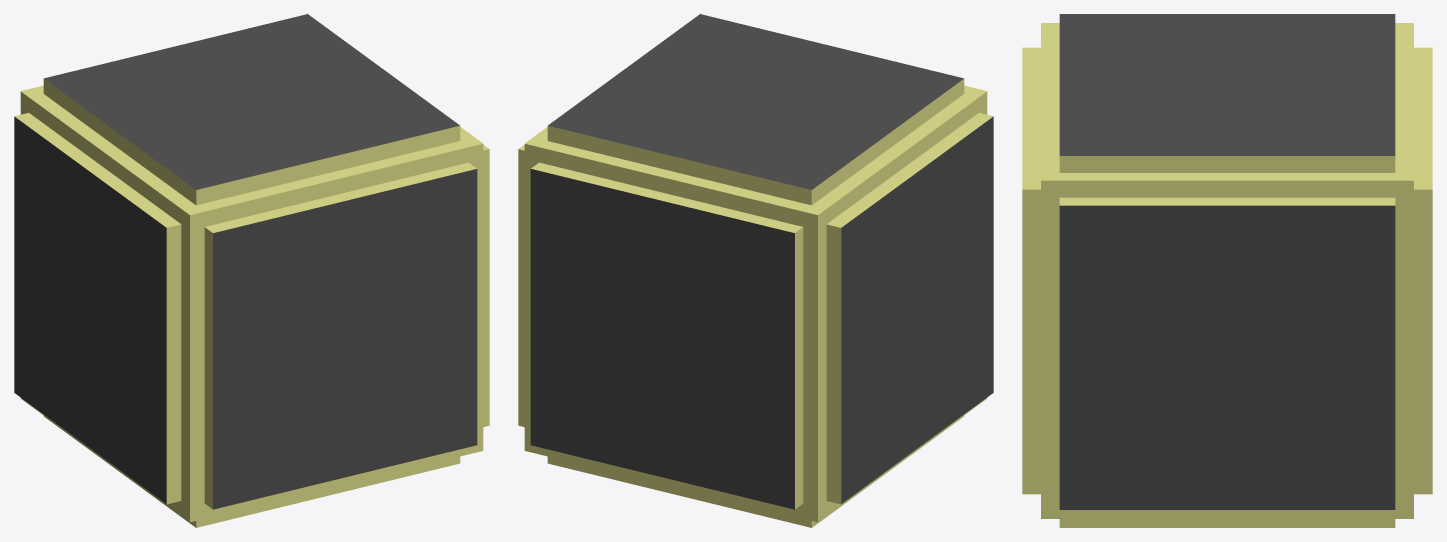
File: boxtest03.fbx
3 renders of one model, left to right at view 1: azimuth 30°, elevation 25°; view 2: azimuth 150°, elevation 25°; view 3: azimuth 270°, elevation 25°, orthographic. The views are drawn at different scales.
Parts seen in each view (by area): view 1: Cube; view 2: Cube; view 3: Cube.
Part boxes in pixels (x1,y1,x2,y2): Cube: (14,14,489,527); Cube: (518,14,993,527); Cube: (1022,14,1432,527).
Size of the model in its own units: 220 by 220 by 220.
